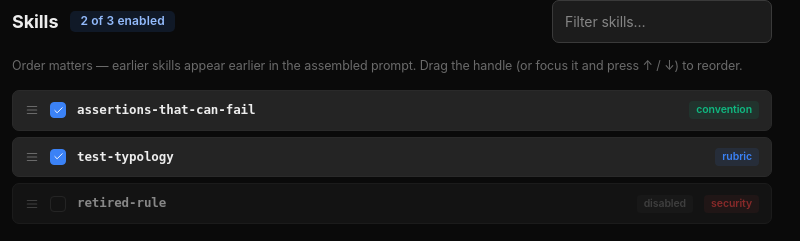
Scenario: SkillsTab — reorder › dragging is disabled while a filter is active
The image size is (800, 241).
In the field labelled "Filter skills…": (674, 22) 565,11 -> 783,32, type "test"
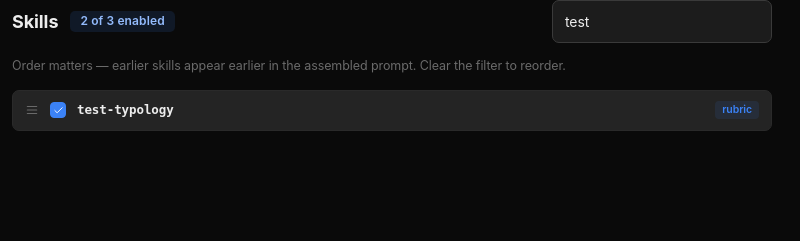
Now the text "Clear the filter to reorder" is shown, box 12,58 -> 566,73
